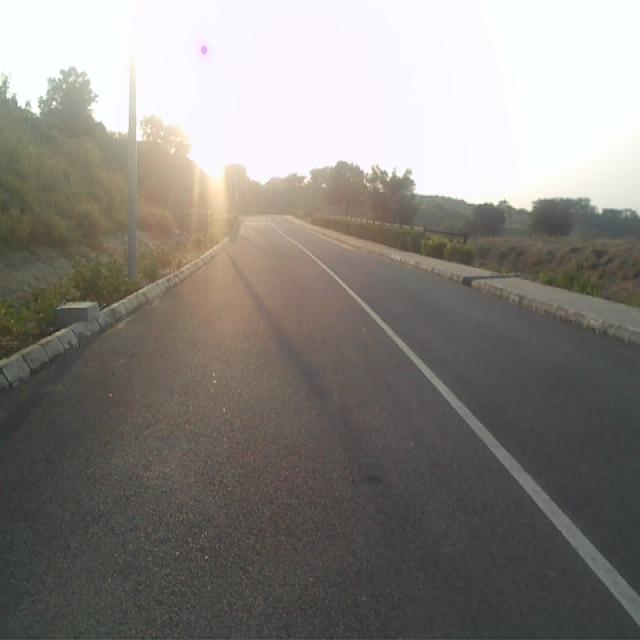lane: (0, 225, 640, 640)
